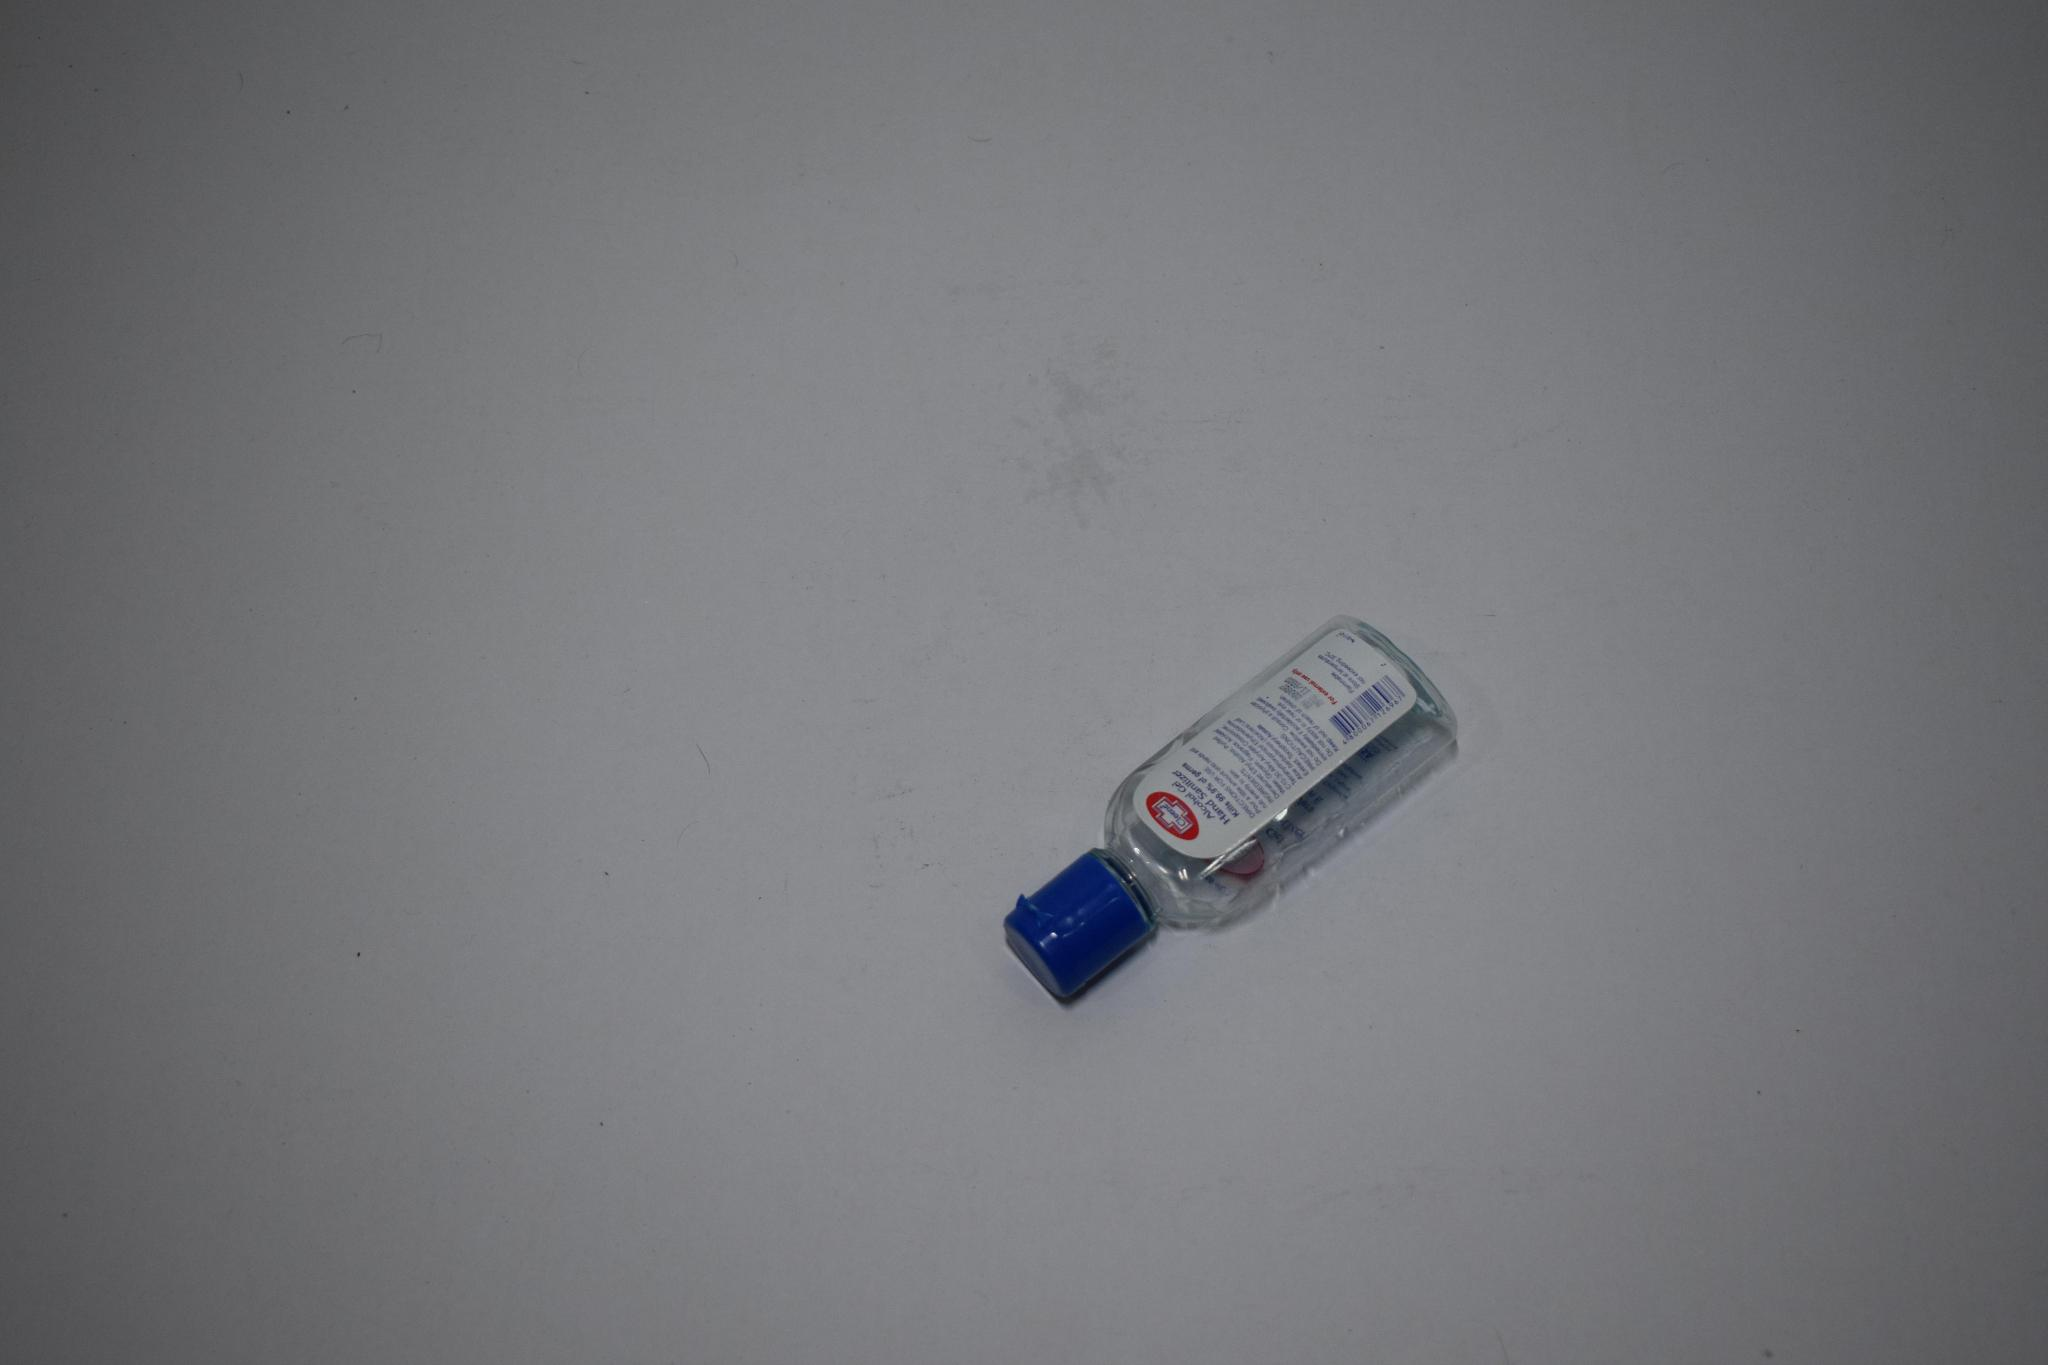bottle: (981, 548, 1498, 1004)
